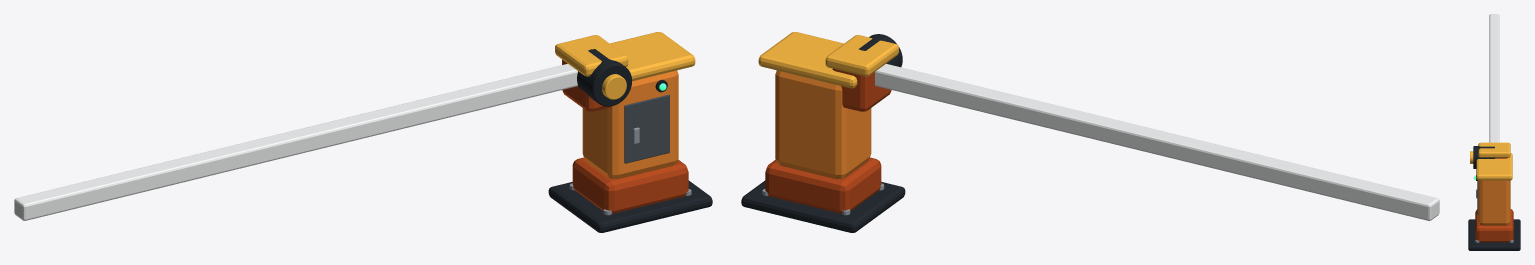
The model's file is RoadBarrierRight.glb.
3 renders of one model, left to right at view 1: azimuth 30°, elevation 25°; view 2: azimuth 150°, elevation 25°; view 3: azimuth 270°, elevation 25°, orthographic. The views are drawn at different scales.
Parts seen in each view (by area): view 1: BarrierArm, ControlHousing.001, ControlBase.001, FoundationPlate.001, ServiceDoor.001, ControlCap.001, PivotSupportTop.001, HingeDisc.001, PivotSupport.001, HingeHub.001; view 2: BarrierArm, ControlHousing.001, ControlBase.001, FoundationPlate.001, ControlCap.001, PivotSupportTop.001, PivotSupport.001, HingeDisc.001; view 3: ControlHousing.001, BarrierArm, ControlCap.001, FoundationPlate.001, ControlBase.001, PivotSupportTop.001, HingeDisc.001, ServiceDoor.001, HingeHub.001.
Boxes of the visible parts, x1,y1,x2,y2 form: BarrierArm: (14,63,577,220); ControlHousing.001: (582,70,678,179); ControlBase.001: (572,157,688,213); FoundationPlate.001: (548,180,712,232); ServiceDoor.001: (624,94,669,163); ControlCap.001: (610,32,695,81); PivotSupportTop.001: (555,35,628,76); HingeDisc.001: (577,49,631,106); PivotSupport.001: (562,59,610,111); HingeHub.001: (602,74,626,99); BarrierArm: (875,63,1439,220); ControlHousing.001: (775,70,871,179); ControlBase.001: (765,157,881,213); FoundationPlate.001: (741,180,905,232); ControlCap.001: (758,32,857,88); PivotSupportTop.001: (825,35,898,76); PivotSupport.001: (832,68,891,111); HingeDisc.001: (858,34,902,67); ControlHousing.001: (1478,180,1510,225); BarrierArm: (1489,14,1499,142); ControlCap.001: (1476,153,1512,180); FoundationPlate.001: (1468,219,1520,250); ControlBase.001: (1475,209,1513,242); PivotSupportTop.001: (1478,142,1510,157); HingeDisc.001: (1473,146,1495,168); ServiceDoor.001: (1477,180,1478,214); HingeHub.001: (1470,151,1473,163).
Size of the model in its own units: 4.55 by 1.06 by 0.62.
